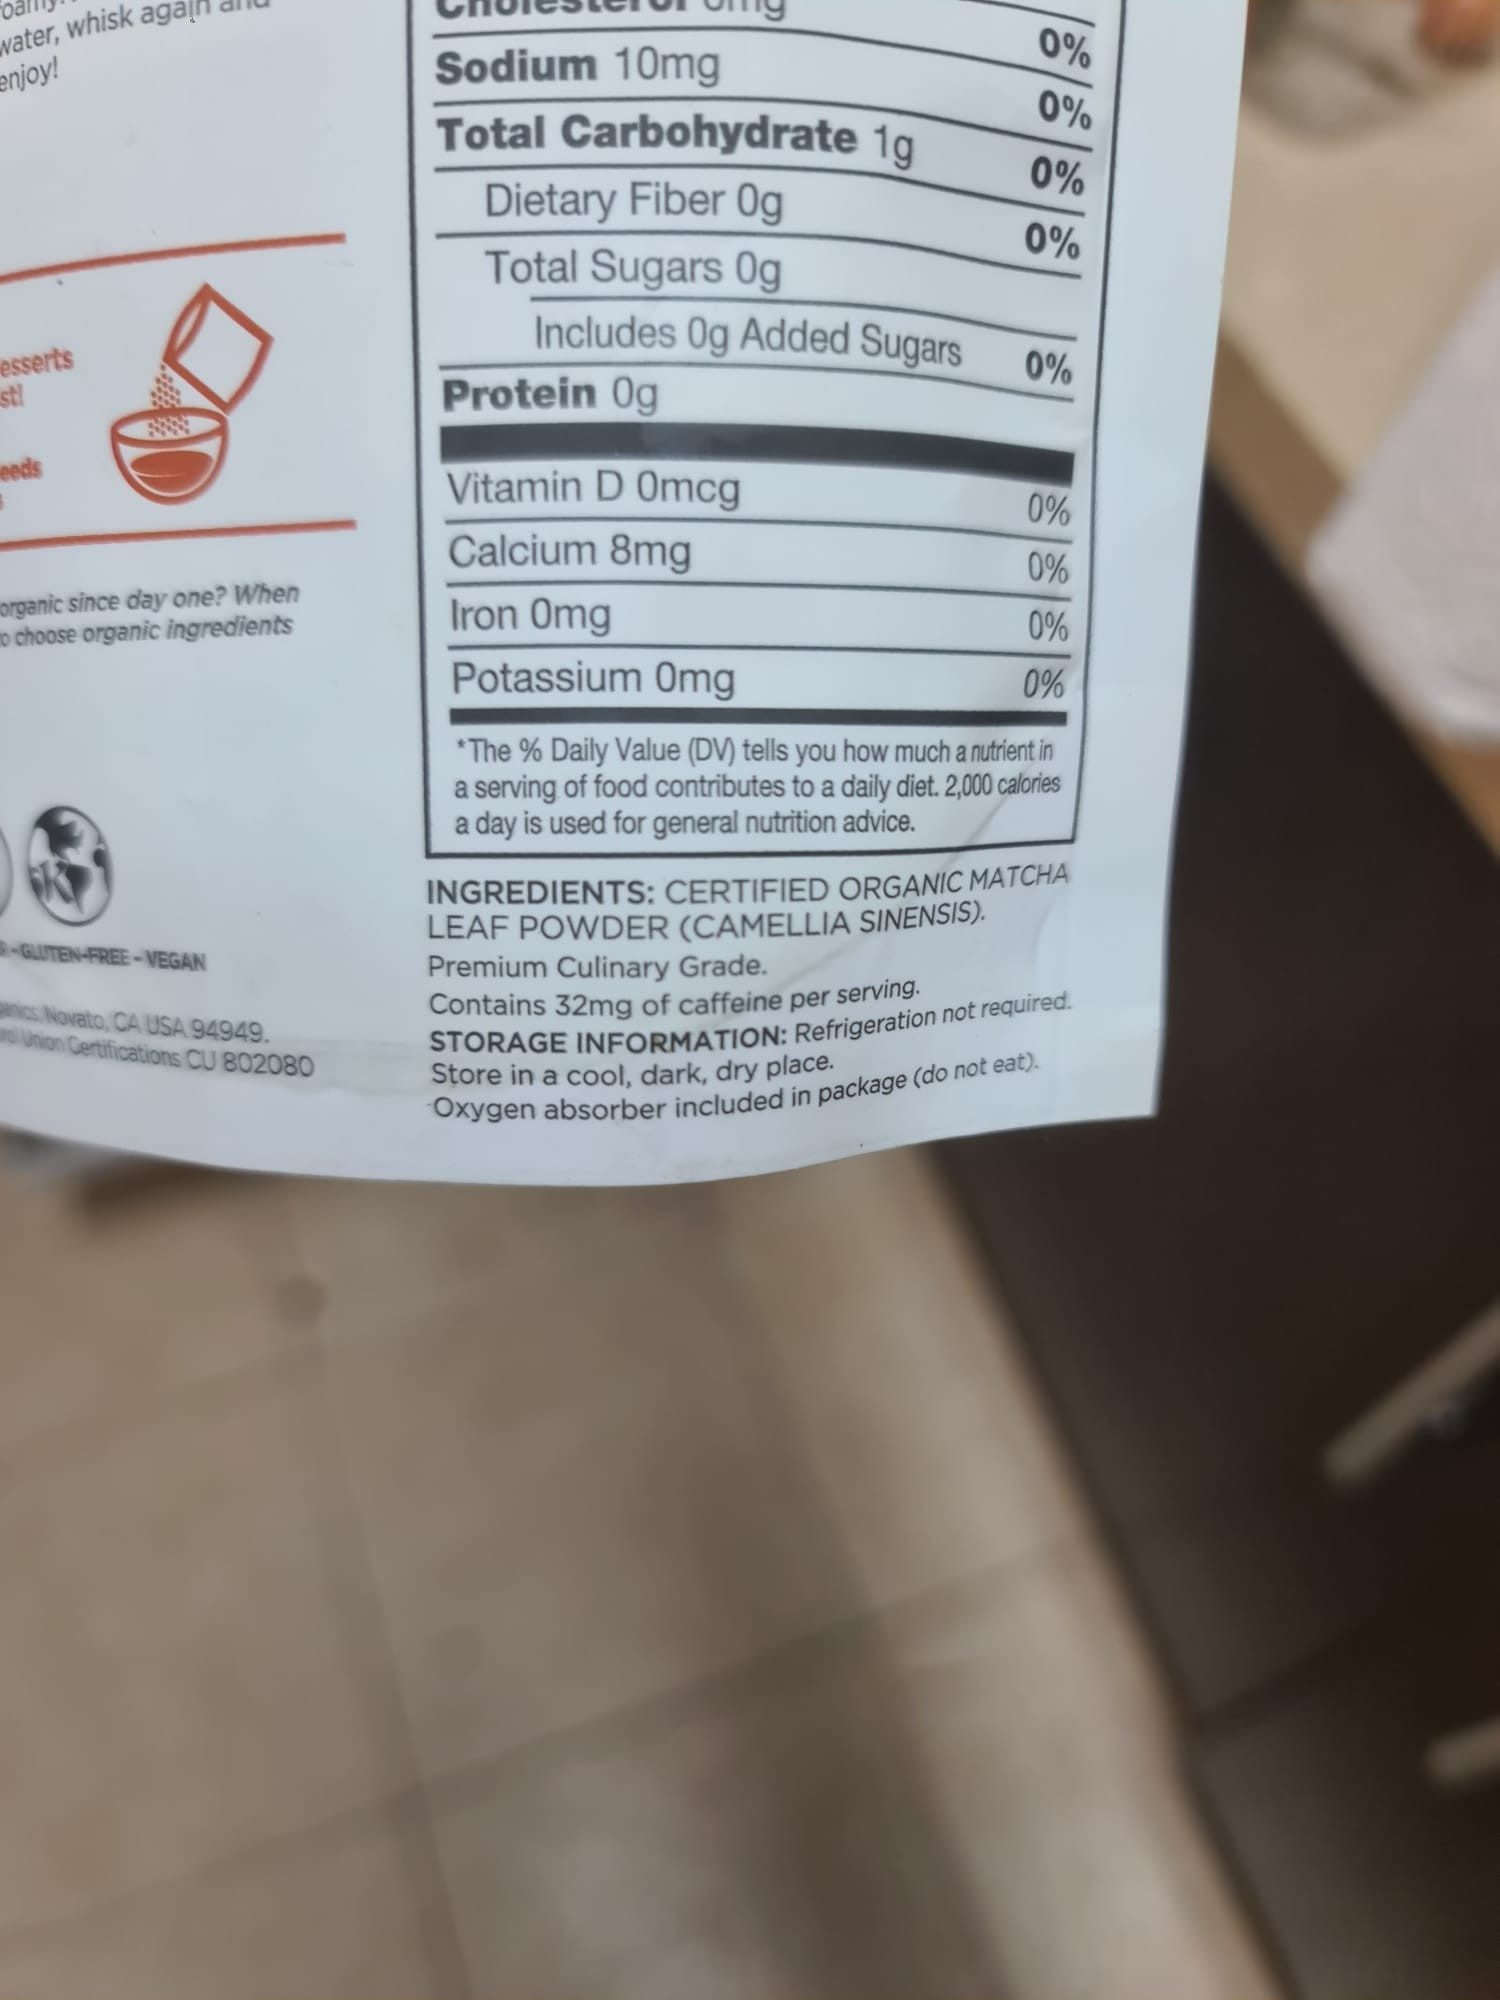l: (395, 857, 1086, 945)
